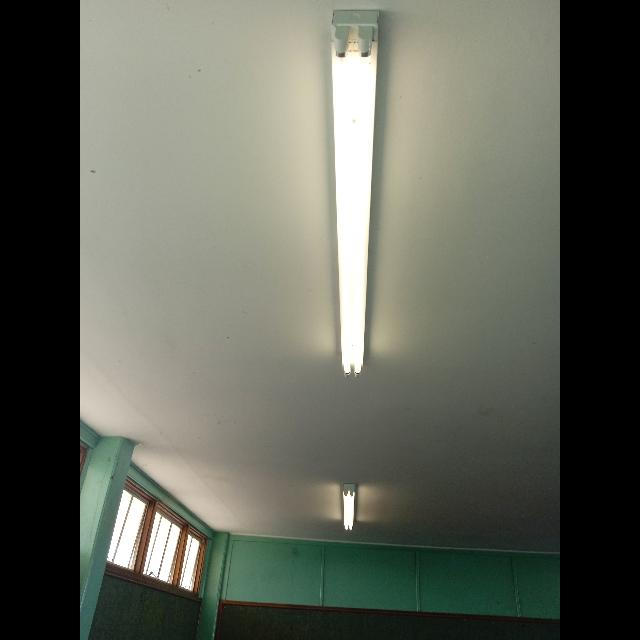Straight-Tube-Fluorescent-Lamp: (313, 2, 392, 388), (336, 472, 366, 534)
